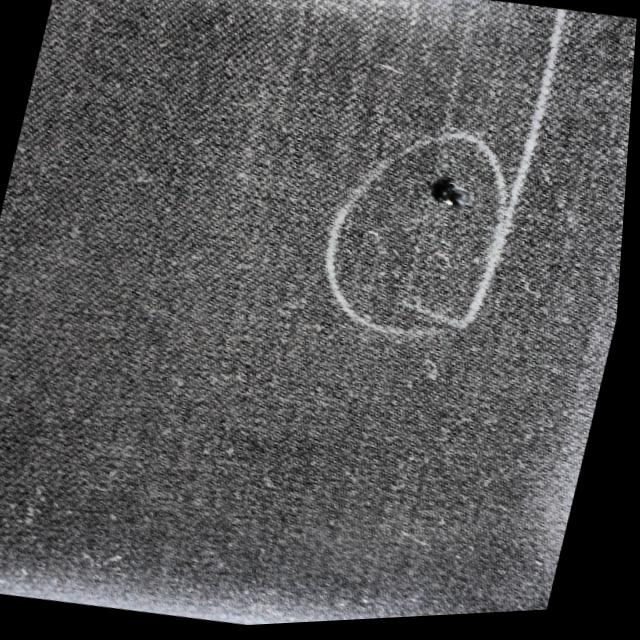Hole: (403, 171, 488, 236)
